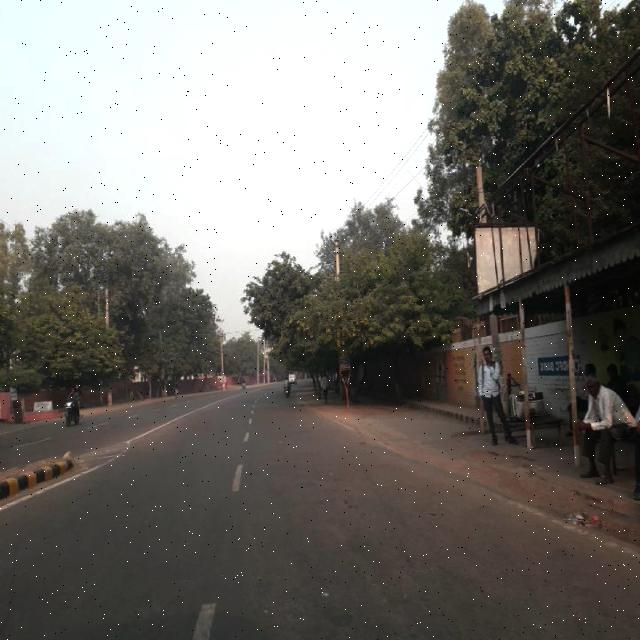D44: (498, 495, 637, 552)
